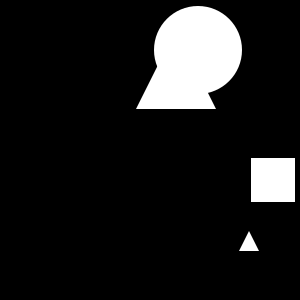circle: (251, 158, 295, 202)
rectangle: (154, 6, 242, 94)
triangle: (136, 29, 216, 109), (239, 231, 259, 251)
